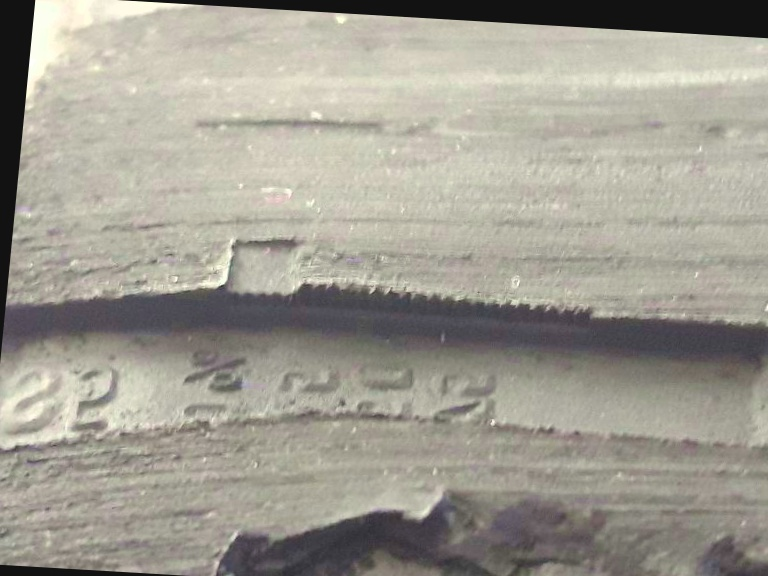temoin:0: (194, 216, 334, 342)
